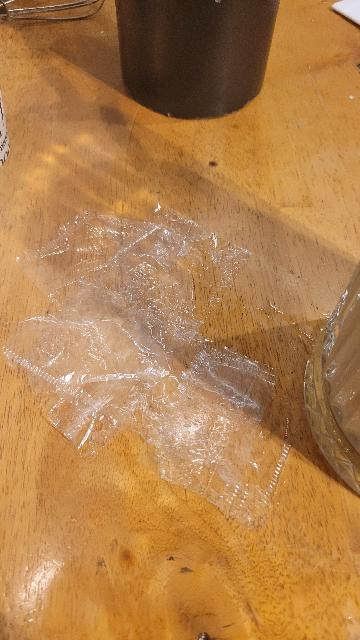Cam: (306, 235, 360, 507)
Metal: (107, 0, 280, 135)
Plastik: (21, 199, 299, 514)
